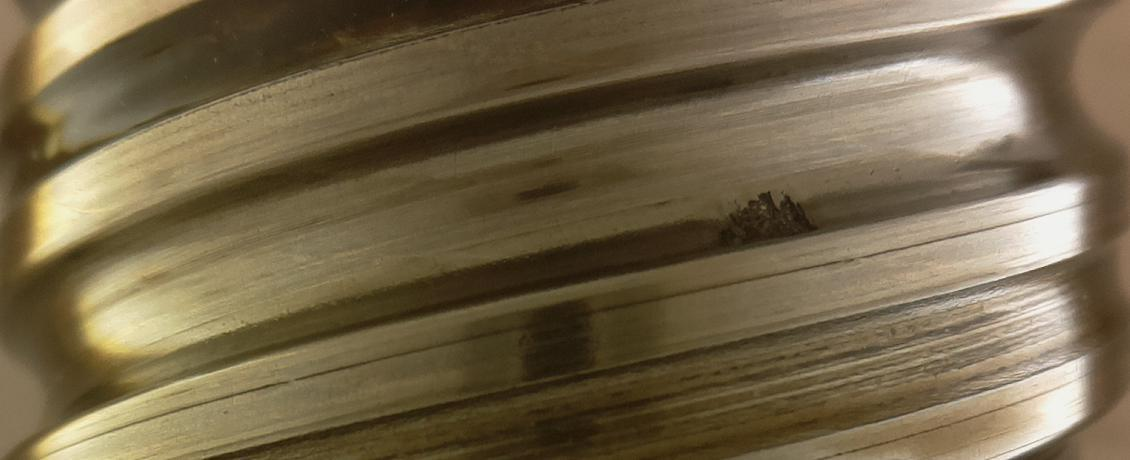pitting: (717, 190, 818, 246)
